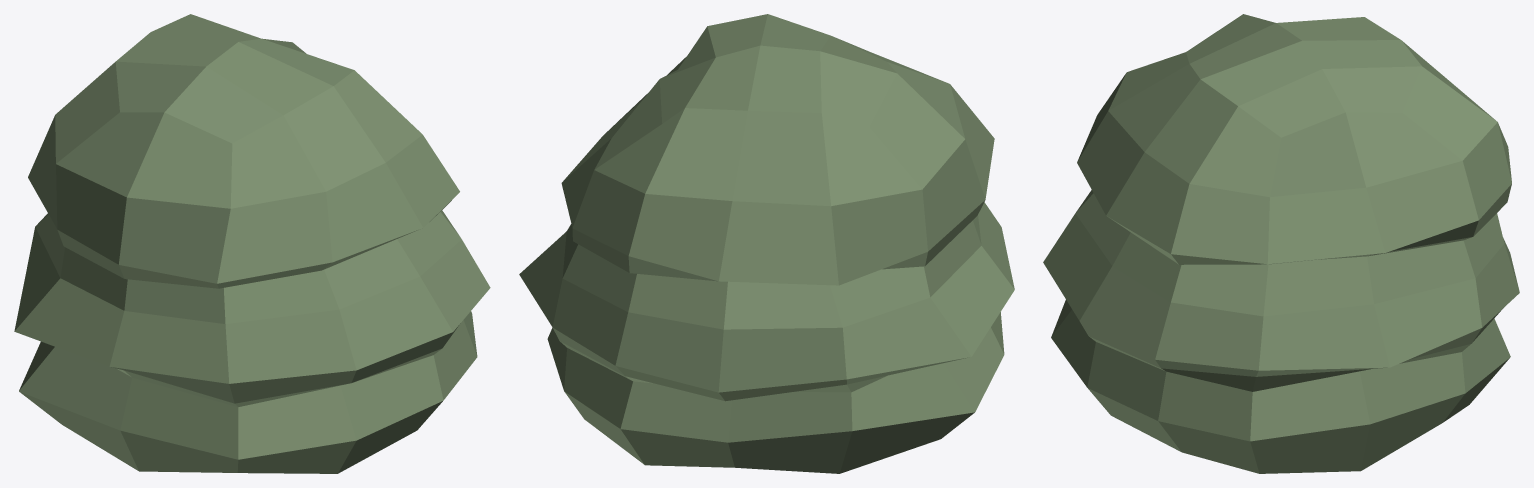
The picture shows the model from 3 angles, left to right: view 1: azimuth 30°, elevation 25°; view 2: azimuth 150°, elevation 25°; view 3: azimuth 270°, elevation 25°; orthographic projection. The views are drawn at different scales.
Parts seen in each view (by area): view 1: Visual; view 2: Visual; view 3: Visual.
Boxes of the visible parts, bbox=[...] form: Visual: bbox=[14, 14, 490, 473]; Visual: bbox=[519, 14, 1014, 473]; Visual: bbox=[1043, 14, 1519, 473].
Bounding box in the file's own units: 3.23 × 2.67 × 3.19.
